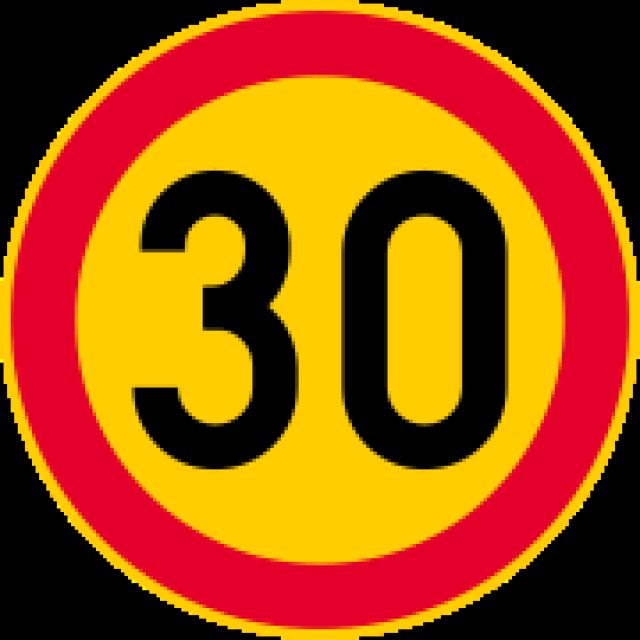Speed Limit -30-: (129, 169, 512, 476)
